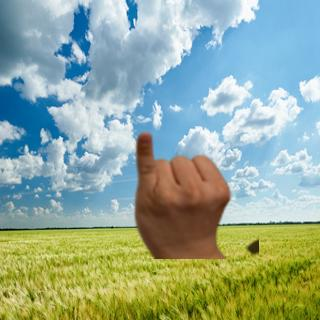FINE: (126, 128, 235, 253)
